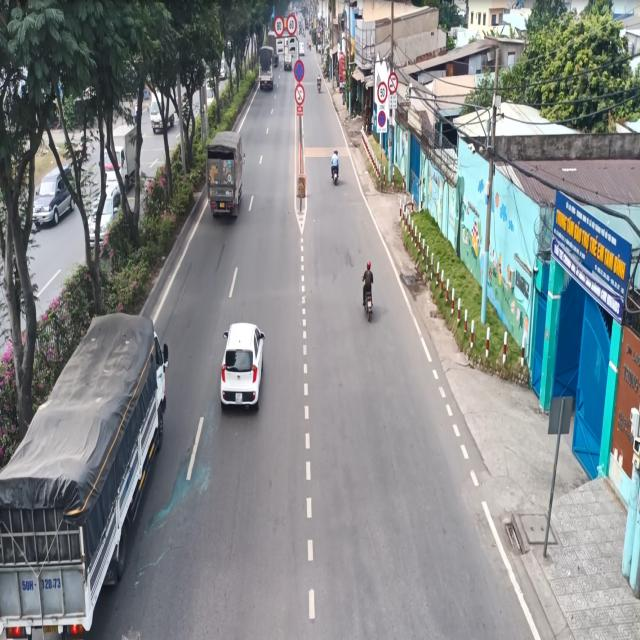car: (220, 311, 268, 419)
motor: (358, 256, 380, 332), (329, 142, 340, 190)
truck: (0, 307, 170, 636), (202, 121, 245, 225)
